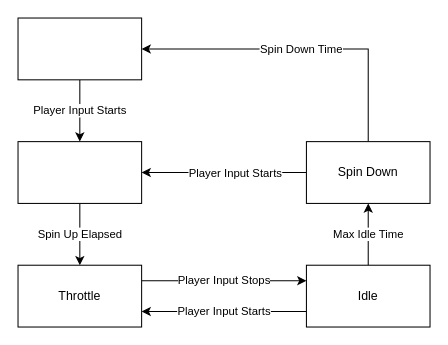
This 448x345 diagram has some shape labels left out. The shapes that lost their labels are listed below. From the top down, each one's centre as x and y in pixels, then its label:
At point (79, 48): "Stopped".
At point (79, 172): "Spin Up".
